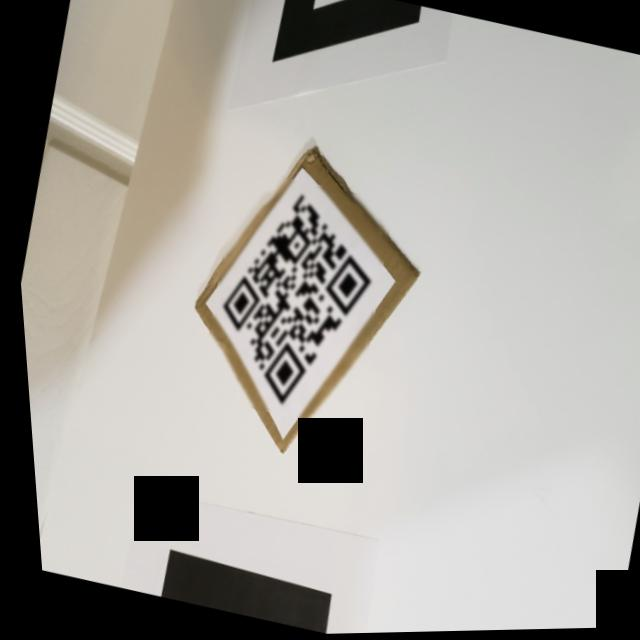QR_CODE: (178, 165, 404, 435)
